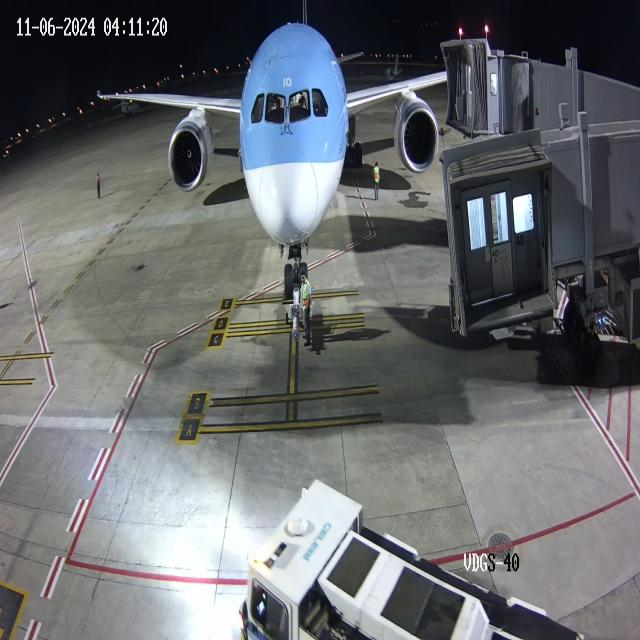bridge: (468, 32, 532, 146)
plane: (90, 1, 440, 300)
window: (247, 86, 332, 128)
